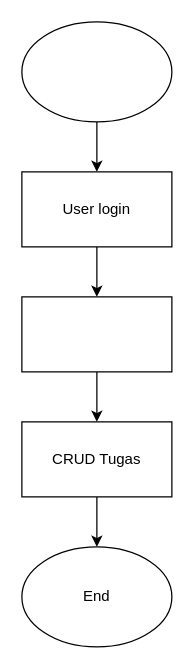
This 194x669 diagram has some shape labels left out. The shapes that lost their labels are listed below. From the top down, each one's centre as x and y in pixels, then its label:
At pixel 96 71: "Start".
At pixel 96 334: "CRUD Proyek".
